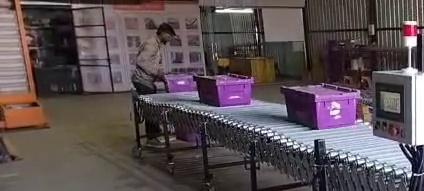box: (281, 83, 359, 128), (194, 74, 253, 106)
